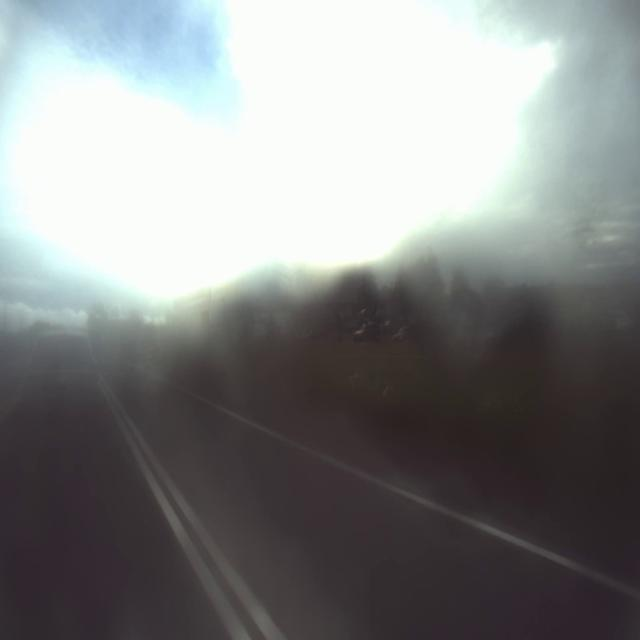car: (21, 323, 102, 425)
